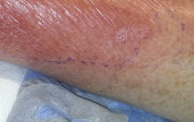SJS-TEN: (0, 0, 156, 72)
